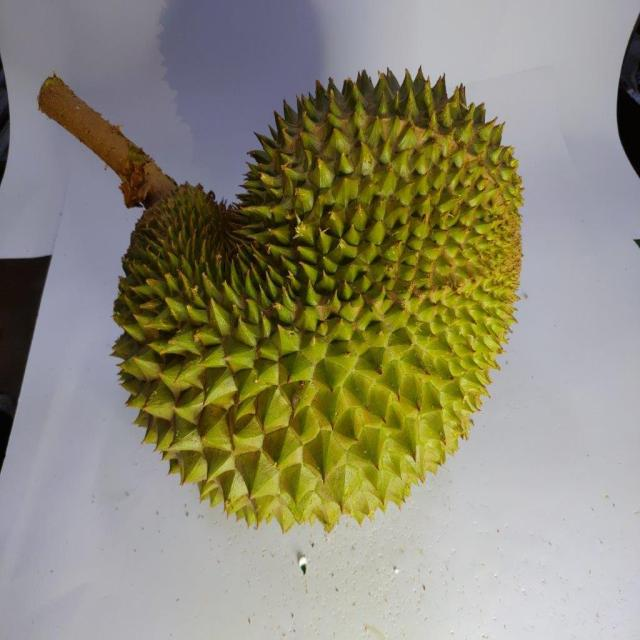immature: (113, 59, 525, 536)
